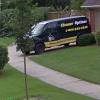Car: (17, 12, 92, 59)
